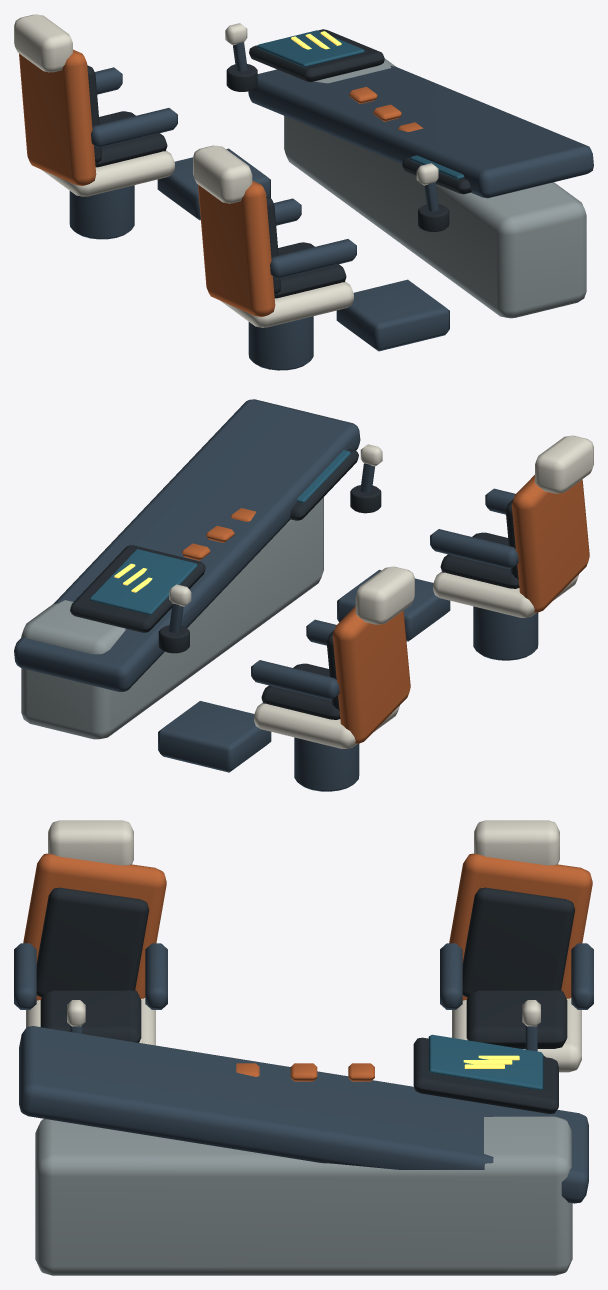
File: SM_SSTO_CockpitFurniture.fbx
3 views of the same model, one above another, from view 1: azimuth 30°, elevation 25°; view 2: azimuth 150°, elevation 25°; view 3: azimuth 270°, elevation 25° (orthographic). The views are drawn at different scales.
Parts seen in each view (by area): view 1: SM_SSTO_CockpitFurniture; view 2: SM_SSTO_CockpitFurniture; view 3: SM_SSTO_CockpitFurniture.
Boxes of the visible parts, bbox=[...] form: SM_SSTO_CockpitFurniture: bbox=[14, 14, 593, 370]; SM_SSTO_CockpitFurniture: bbox=[14, 399, 593, 791]; SM_SSTO_CockpitFurniture: bbox=[14, 820, 593, 1275].
Size of the model in its own units: 372 by 433 by 212.
